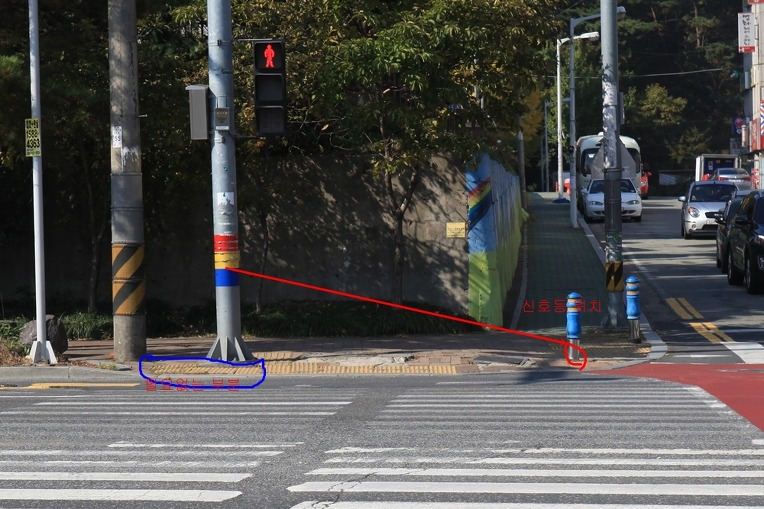traffic_light: (254, 39, 288, 108)
